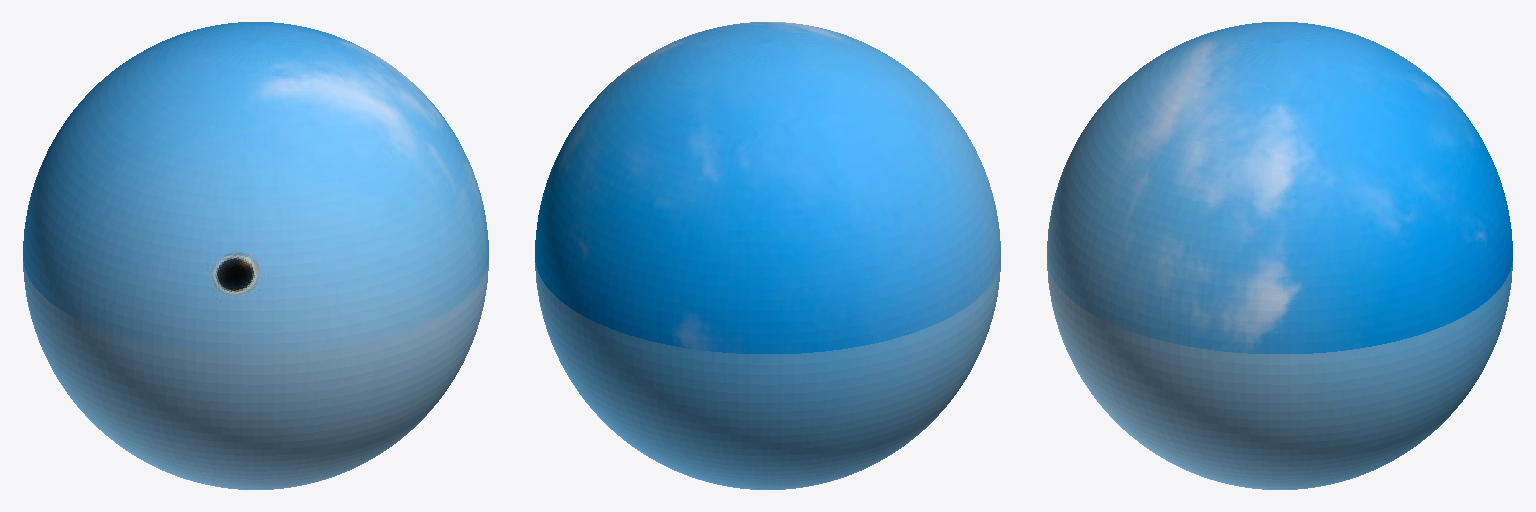
3 renders of one model, left to right at view 1: azimuth 30°, elevation 25°; view 2: azimuth 150°, elevation 25°; view 3: azimuth 270°, elevation 25°, orthographic.
Visible parts, largest first — view 1: Sphere; view 2: Sphere; view 3: Sphere.
Part boxes in pixels (x1,y1,x2,y2): Sphere: (23,22,488,489); Sphere: (535,22,1000,489); Sphere: (1047,22,1512,489).
Size of the model in its own units: 1.98 by 2 by 1.98.
1 materials, 1 textured.